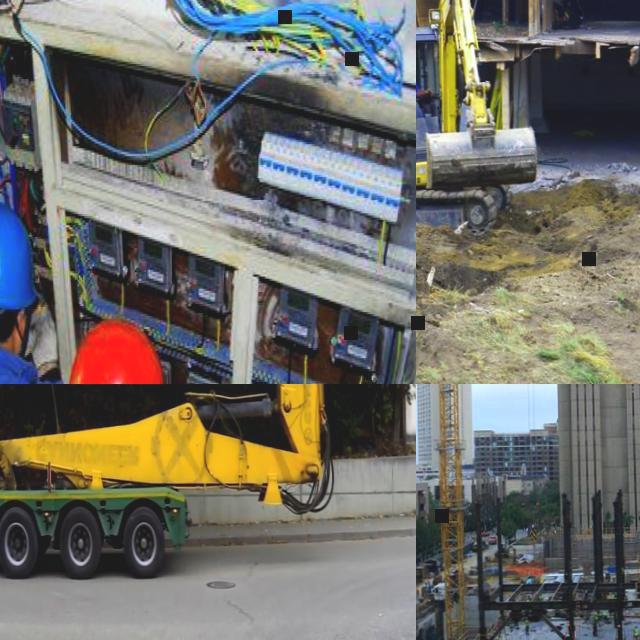helmet: (58, 318, 172, 384), (0, 201, 40, 312), (526, 616, 528, 618)
machinery: (0, 384, 335, 520), (416, 0, 538, 238), (488, 536, 497, 544)
person: (31, 316, 219, 384), (416, 46, 435, 139), (591, 612, 599, 637), (634, 625, 640, 640), (525, 616, 529, 634), (416, 586, 421, 598)
vest: (634, 628, 638, 636), (592, 616, 597, 622), (525, 620, 528, 626)
